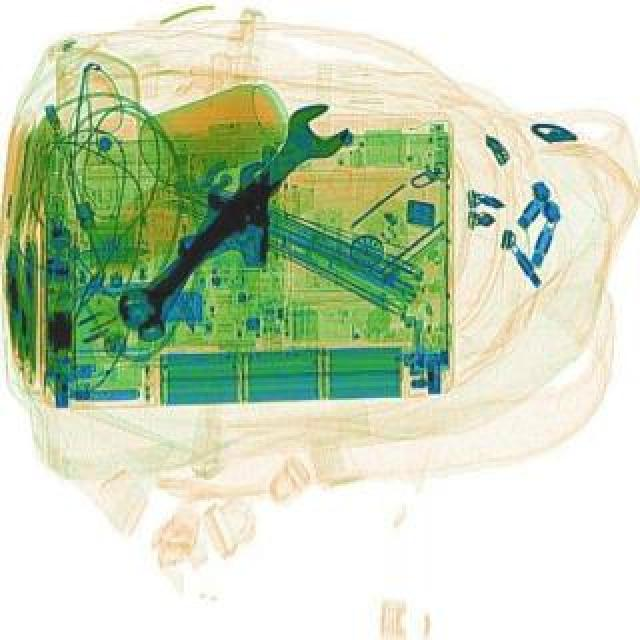gun: (178, 146, 270, 270)
scissors: (100, 94, 356, 346), (124, 158, 288, 356)
